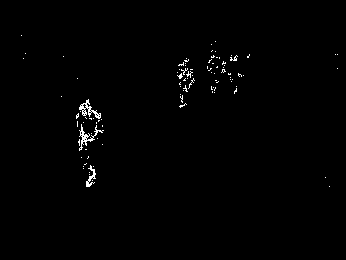person: (73, 98, 106, 186)
